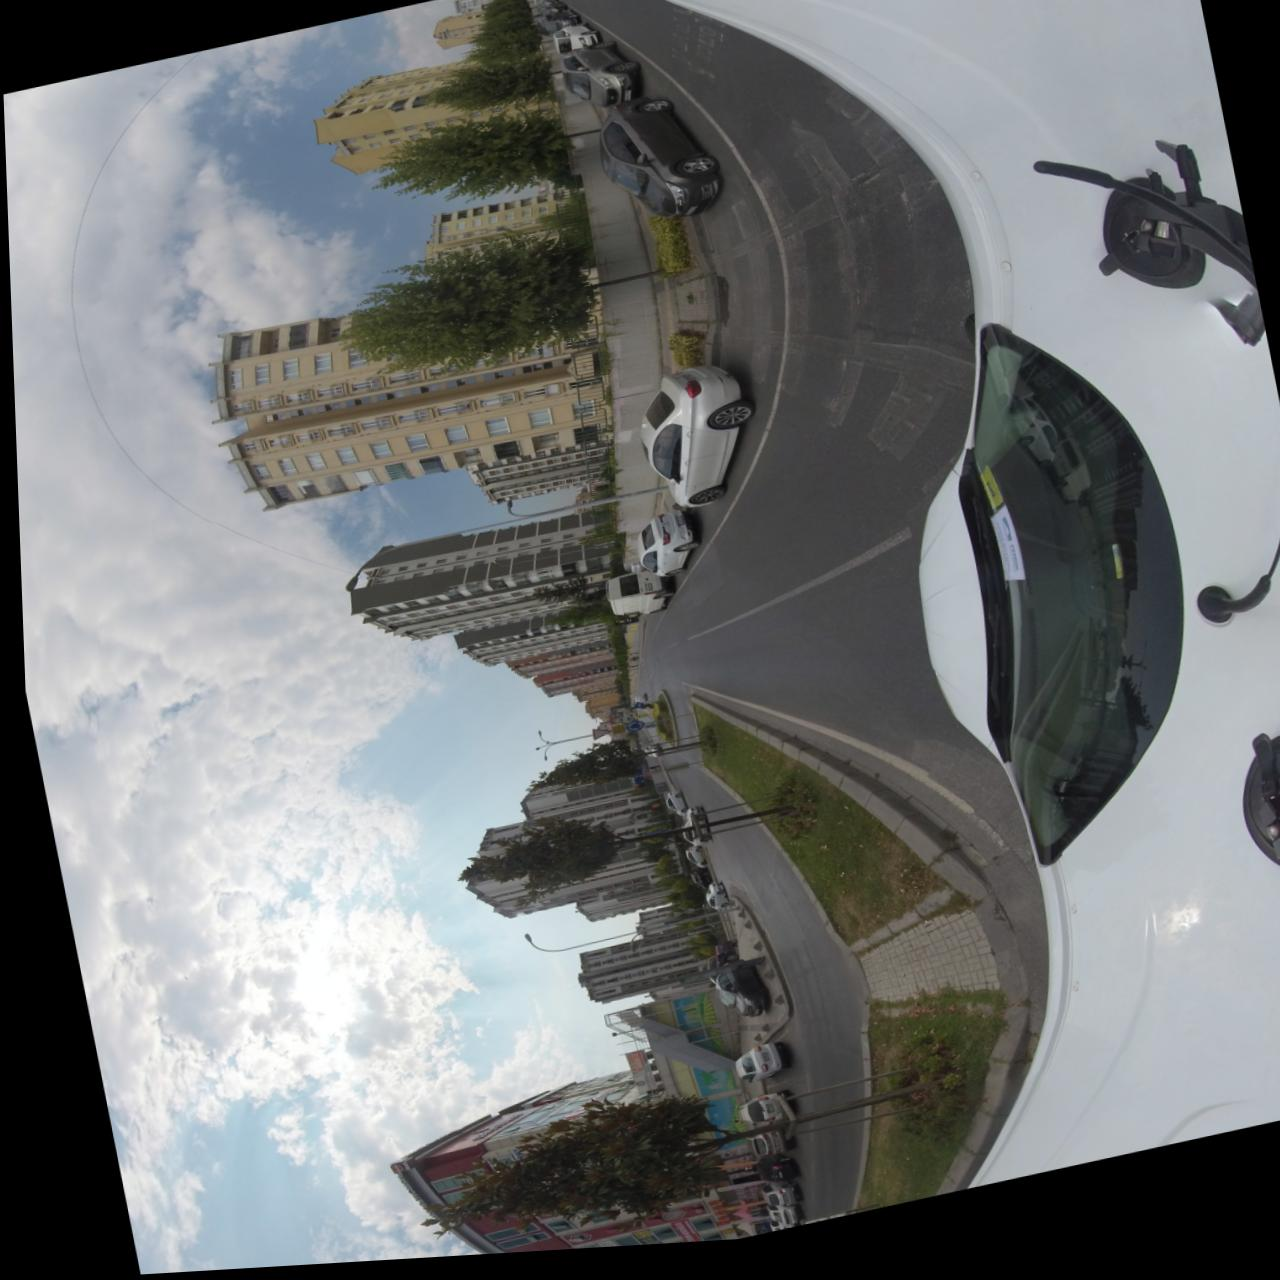SignStore: (694, 1204, 722, 1234), (660, 1226, 694, 1251), (621, 1235, 653, 1252), (585, 1246, 610, 1254)
